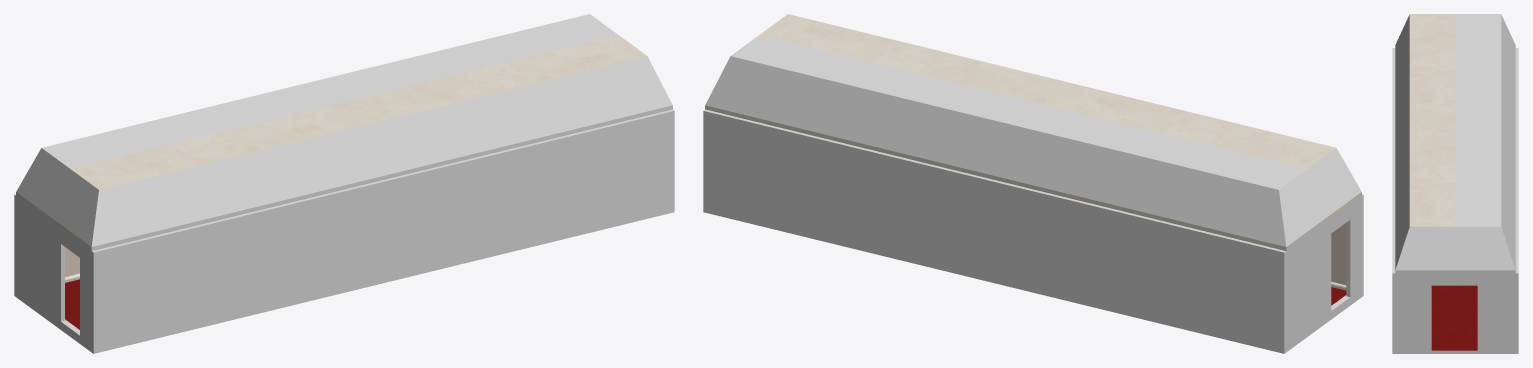
File: Sala MADM.fbx
The picture shows the model from 3 angles, left to right: view 1: azimuth 30°, elevation 25°; view 2: azimuth 150°, elevation 25°; view 3: azimuth 270°, elevation 25°; orthographic projection. The views are drawn at different scales.
Parts seen in each view (by area): view 1: Techo, Paredes Sala; view 2: Techo, Paredes Sala; view 3: Techo, Paredes Sala.
Part boxes in pixels (x1,y1,x2,y2): Techo: [16, 14, 672, 250]; Paredes Sala: [14, 109, 674, 353]; Techo: [705, 14, 1361, 250]; Paredes Sala: [703, 109, 1363, 353]; Techo: [1395, 14, 1515, 273]; Paredes Sala: [1392, 48, 1518, 353].
Bounding box in the file's own units: 30000 × 7500 × 7100.
Materials: 6 (3 with a texture image).
